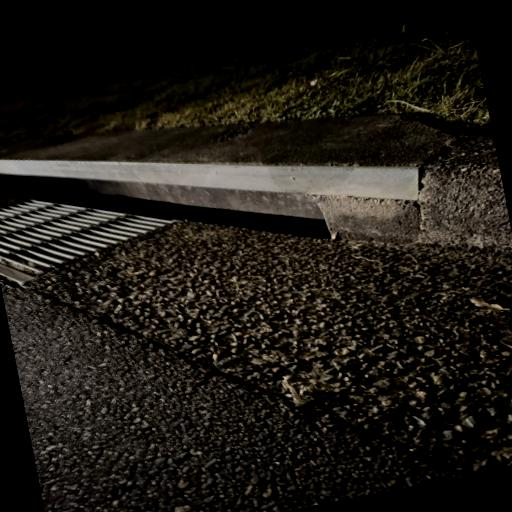kerb: (0, 115, 512, 284)
